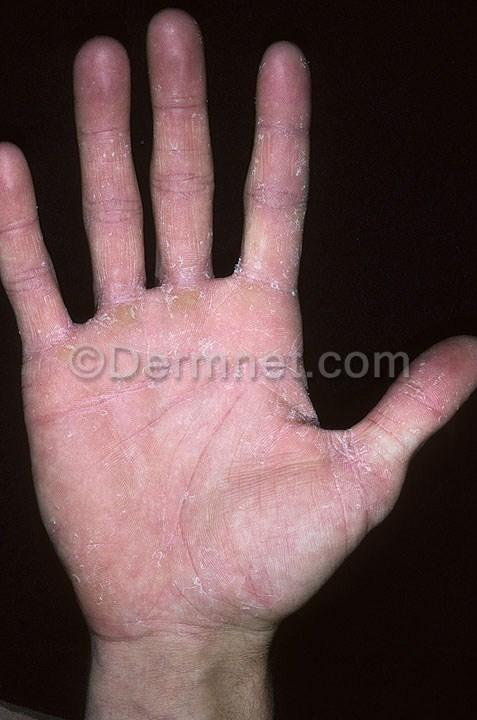Eczema: (38, 385, 133, 439), (156, 74, 208, 172), (81, 97, 130, 185), (258, 113, 304, 205), (86, 193, 136, 270), (73, 559, 135, 614), (310, 431, 374, 483), (182, 561, 244, 612), (254, 381, 309, 432), (162, 283, 209, 324), (243, 247, 301, 276), (236, 277, 280, 313), (106, 298, 145, 331)
